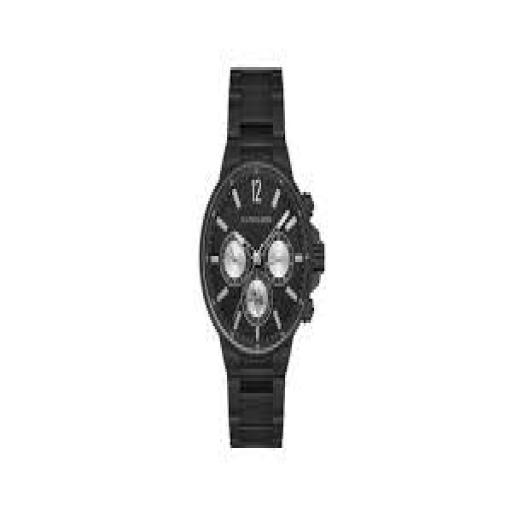KolSaati: (162, 32, 366, 497)
